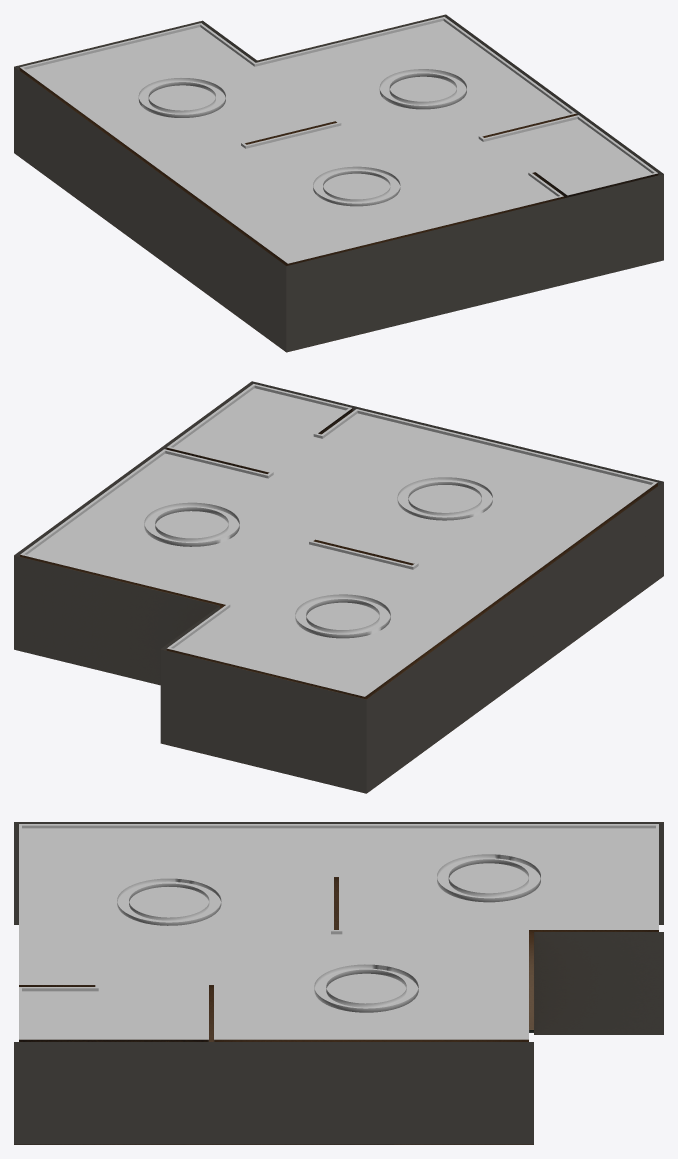
Rendered from museu.gltf.
The picture shows the model from 3 angles, top to bottom: view 1: azimuth 30°, elevation 25°; view 2: azimuth 150°, elevation 25°; view 3: azimuth 270°, elevation 25°; orthographic projection. The views are drawn at different scales.
Parts seen in each view (by area): view 1: Circle.002, _(Loose Entity).002; view 2: Circle.002, _(Loose Entity).002; view 3: Circle.002, _(Loose Entity).002.
Boxes of the visible parts, x1=… form: Circle.002: x1=20, y1=17, x2=657, y2=263; _(Loose Entity).002: x1=14, y1=14, x2=663, y2=352; Circle.002: x1=20, y1=384, x2=657, y2=696; _(Loose Entity).002: x1=14, y1=381, x2=663, y2=793; Circle.002: x1=19, y1=824, x2=658, y2=1039; _(Loose Entity).002: x1=14, y1=822, x2=663, y2=1144.
Size of the model in its own units: 9.61 by 2.13 by 12.01.
